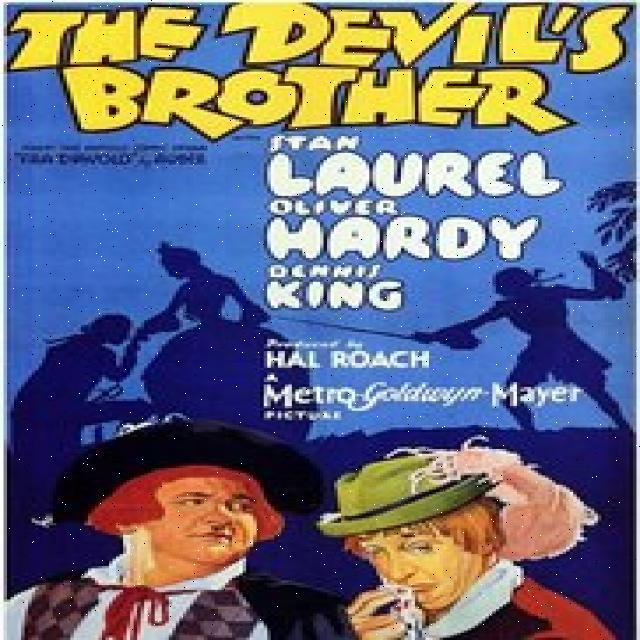movie-judul: (8, 3, 637, 138)
picture: (9, 421, 640, 640)
